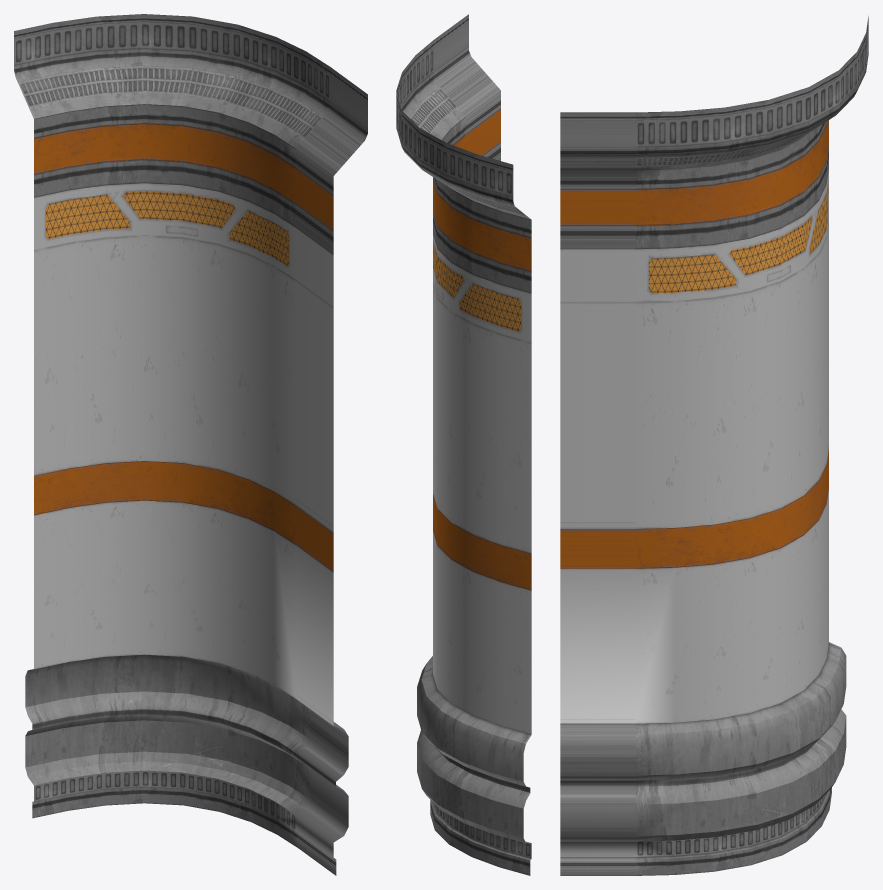
File: CornerLonger.fbx
3 views of the same model, side by side, from view 1: azimuth 30°, elevation 25°; view 2: azimuth 150°, elevation 25°; view 3: azimuth 270°, elevation 25° (orthographic). The views are drawn at different scales.
Visible parts, largest first — view 1: Wall_CurvedOutside__1_; view 2: Wall_CurvedOutside__1_; view 3: Wall_CurvedOutside__1_.
Part boxes in pixels (<box>): Wall_CurvedOutside__1_: <box>14,14,367,875</box>; Wall_CurvedOutside__1_: <box>396,14,531,875</box>; Wall_CurvedOutside__1_: <box>560,16,868,875</box>.
Bounding box in the file's own units: 2.37 × 8.76 × 3.14.
